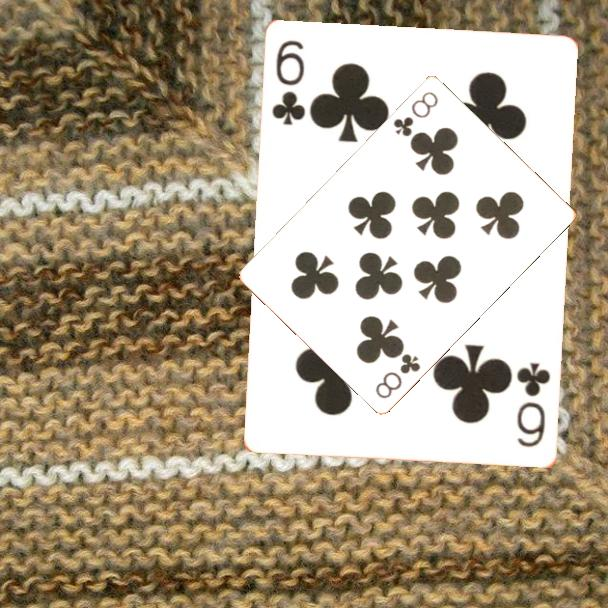c06: (514, 359, 553, 450), (269, 37, 308, 128)
c08: (390, 87, 441, 139), (372, 350, 424, 401)
